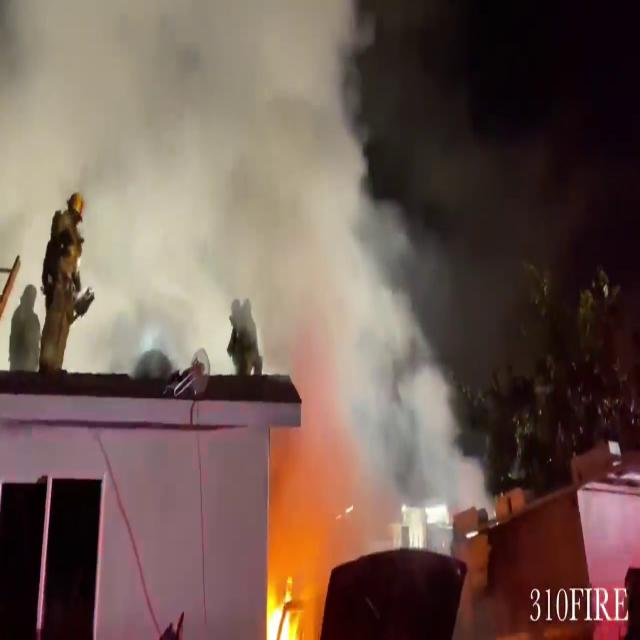Fire: (259, 569, 310, 640)
Smoke: (1, 0, 451, 324)
